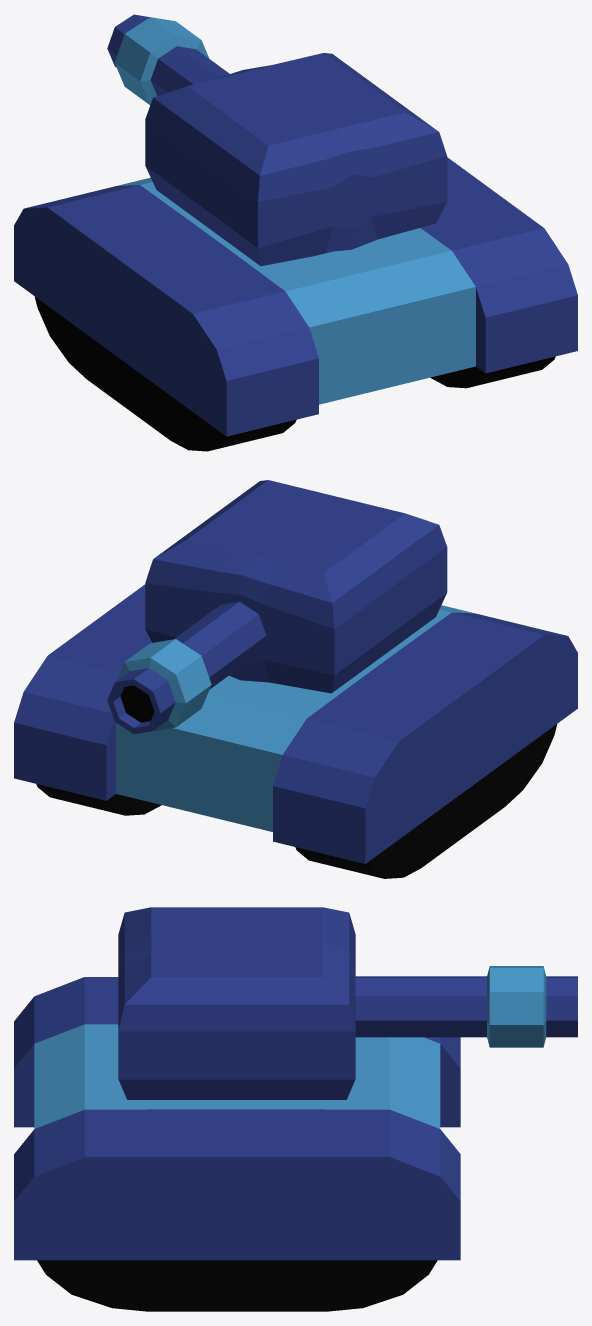
Rendered from Simple Tank1.fbx.
3 renders of one model, top to bottom at view 1: azimuth 30°, elevation 25°; view 2: azimuth 150°, elevation 25°; view 3: azimuth 270°, elevation 25°, orthographic. The views are drawn at different scales.
Parts seen in each view (by area): view 1: Body, Turret, Barrel; view 2: Body, Turret, Barrel; view 3: Body, Turret, Barrel.
Boxes of the visible parts, left/top/right/bottom form: Body: left=14, top=157, right=577, bottom=451; Turret: left=145, top=53, right=447, bottom=266; Barrel: left=107, top=14, right=229, bottom=104; Body: left=14, top=584, right=577, bottom=878; Turret: left=145, top=480, right=447, bottom=693; Barrel: left=107, top=601, right=266, bottom=734; Body: left=14, top=977, right=460, bottom=1311; Turret: left=118, top=907, right=355, bottom=1099; Barrel: left=355, top=966, right=577, bottom=1047.
Bounding box in the file's own units: 2.1 × 1.54 × 2.78.
